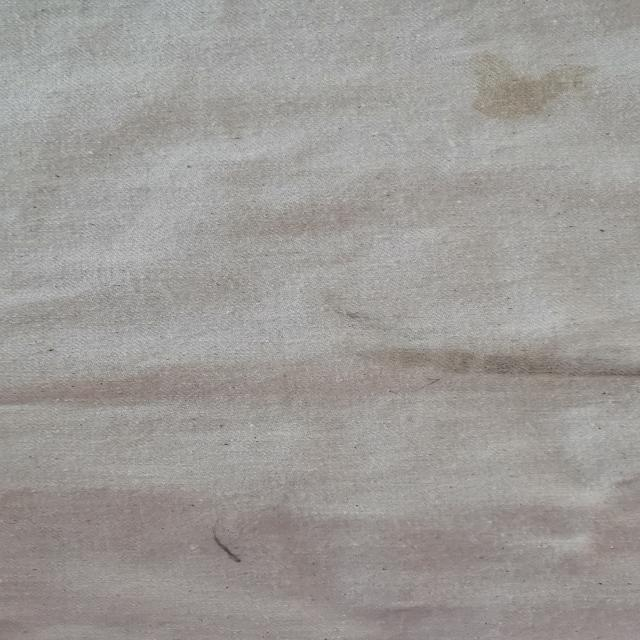taaaches: (342, 341, 640, 403), (462, 44, 598, 130), (185, 528, 253, 576), (304, 298, 404, 326)
